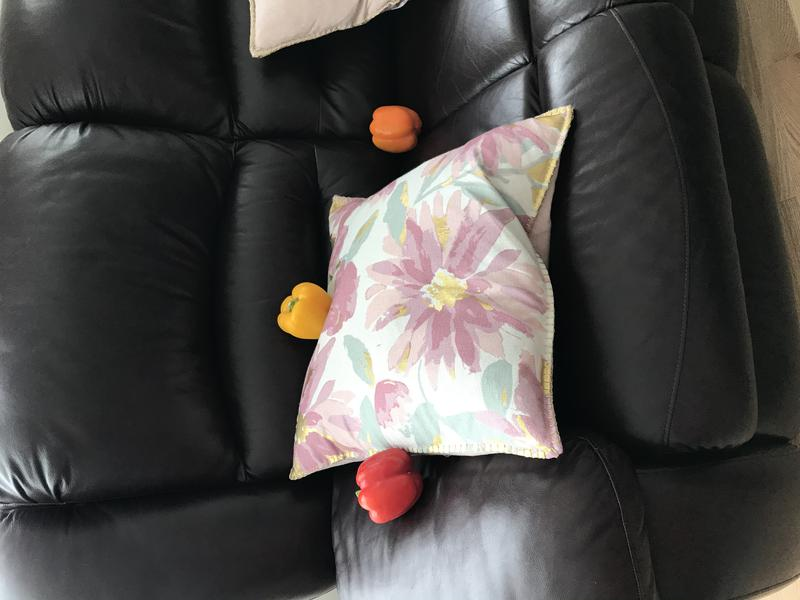orange_pepper: (361, 99, 431, 162)
red_pepper: (350, 444, 433, 527)
yellow_pepper: (266, 272, 349, 356)
